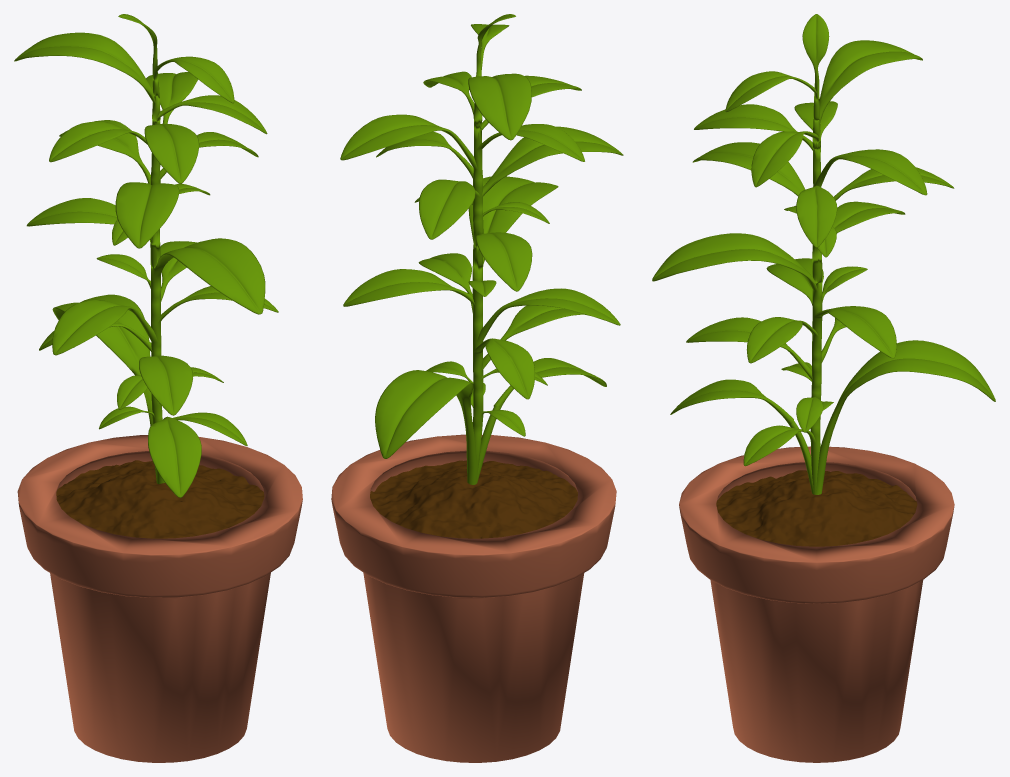
Rendered from plant_final.fbx.
The picture shows the model from 3 angles, left to right: view 1: azimuth 30°, elevation 25°; view 2: azimuth 150°, elevation 25°; view 3: azimuth 270°, elevation 25°; orthographic projection. The views are drawn at different scales.
Parts seen in each view (by area): view 1: fully_grown_plant; view 2: fully_grown_plant; view 3: fully_grown_plant.
Boxes of the visible parts, x1=… form: fully_grown_plant: x1=14, y1=14, x2=302, y2=762; fully_grown_plant: x1=331, y1=14, x2=623, y2=762; fully_grown_plant: x1=652, y1=14, x2=995, y2=762.
Bounding box in the file's own units: 3.32 × 9.12 × 4.09.
